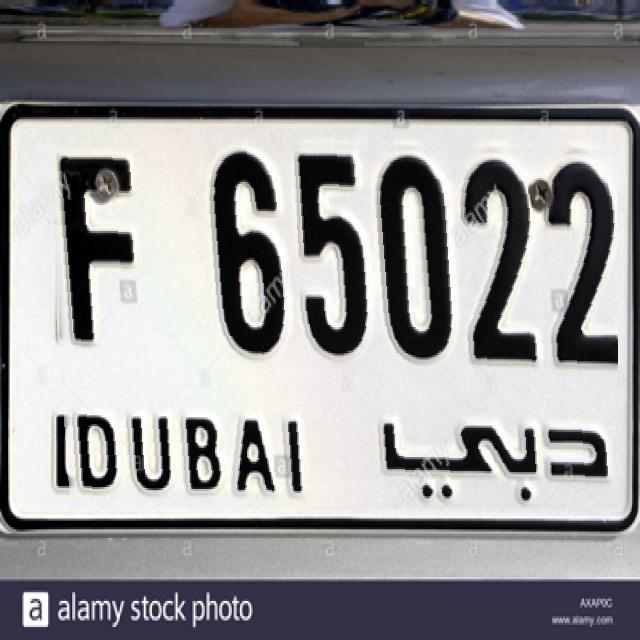licence: (43, 136, 618, 508)
